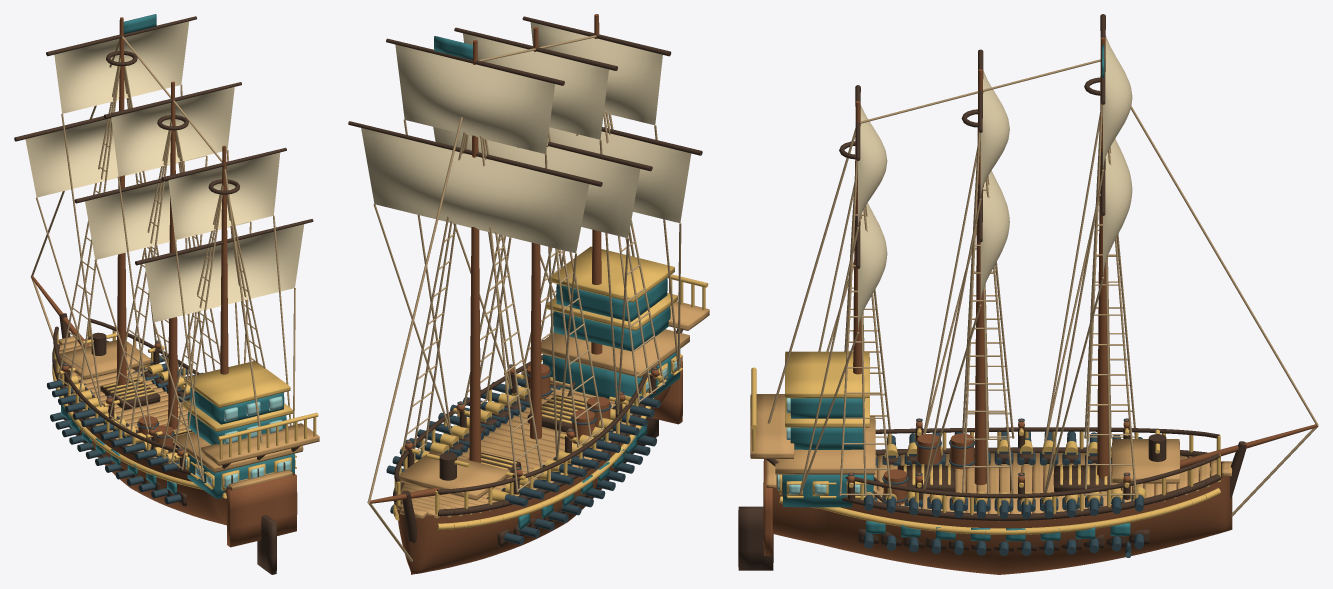
File: ship_of_line.glb
3 views of the same model, side by side, from view 1: azimuth 30°, elevation 25°; view 2: azimuth 150°, elevation 25°; view 3: azimuth 270°, elevation 25° (orthographic). The views are drawn at different scales.
Parts seen in each view (by area): view 1: _MeshInstance3D_105, _MeshInstance3D_99, _MeshInstance3D_104, _MeshInstance3D_102, _MeshInstance3D_98, _MeshInstance3D_100, _MeshInstance3D_93, _MeshInstance3D_95, _MeshInstance3D_97, _MeshInstance3D_94, _MeshInstance3D_96, _MeshInstance3D_106 (+2 smaller); view 2: _MeshInstance3D_105, _MeshInstance3D_94, _MeshInstance3D_99, _MeshInstance3D_102, _MeshInstance3D_104, _MeshInstance3D_93, _MeshInstance3D_100, _MeshInstance3D_101, _MeshInstance3D_106, _MeshInstance3D_96, _MeshInstance3D_95, _MeshInstance3D_97 (+1 smaller); view 3: _MeshInstance3D_99, _MeshInstance3D_105, _MeshInstance3D_104, _MeshInstance3D_102, _MeshInstance3D_100, _MeshInstance3D_106, _MeshInstance3D_101, _MeshInstance3D_94, _MeshInstance3D_96, _MeshInstance3D_93, _MeshInstance3D_98, _MeshInstance3D_95 (+1 smaller).
Boxes of the visible parts, x1,y1,x2,y2 form: _MeshInstance3D_105: [31, 36, 295, 481]; _MeshInstance3D_99: [31, 17, 297, 547]; _MeshInstance3D_104: [14, 16, 313, 574]; _MeshInstance3D_102: [52, 323, 318, 498]; _MeshInstance3D_98: [144, 224, 304, 322]; _MeshInstance3D_100: [58, 336, 319, 489]; _MeshInstance3D_93: [54, 21, 189, 113]; _MeshInstance3D_95: [111, 87, 234, 176]; _MeshInstance3D_97: [168, 152, 280, 239]; _MeshInstance3D_94: [25, 118, 206, 197]; _MeshInstance3D_96: [85, 181, 250, 259]; _MeshInstance3D_106: [47, 340, 203, 504]; _MeshInstance3D_105: [367, 35, 681, 561]; _MeshInstance3D_94: [361, 128, 589, 252]; _MeshInstance3D_99: [367, 14, 682, 574]; _MeshInstance3D_102: [393, 246, 708, 530]; _MeshInstance3D_104: [348, 16, 702, 572]; _MeshInstance3D_93: [395, 44, 554, 154]; _MeshInstance3D_100: [396, 301, 709, 519]; _MeshInstance3D_101: [434, 36, 680, 529]; _MeshInstance3D_106: [386, 340, 660, 544]; _MeshInstance3D_96: [433, 127, 640, 237]; _MeshInstance3D_95: [463, 33, 608, 139]; _MeshInstance3D_97: [530, 22, 662, 125]; _MeshInstance3D_99: [763, 37, 1317, 574]; _MeshInstance3D_105: [767, 59, 1318, 516]; _MeshInstance3D_104: [738, 14, 1246, 570]; _MeshInstance3D_102: [751, 351, 1220, 534]; _MeshInstance3D_100: [750, 394, 1232, 513]; _MeshInstance3D_106: [847, 418, 1143, 557]; _MeshInstance3D_101: [782, 44, 1130, 541]; _MeshInstance3D_94: [1103, 138, 1132, 277]; _MeshInstance3D_96: [980, 171, 1009, 302]; _MeshInstance3D_93: [1103, 35, 1132, 169]; _MeshInstance3D_98: [858, 202, 887, 331]; _MeshInstance3D_95: [980, 71, 1009, 197].
Size of the model in its own units: 7.11 by 14.21 by 14.07.
